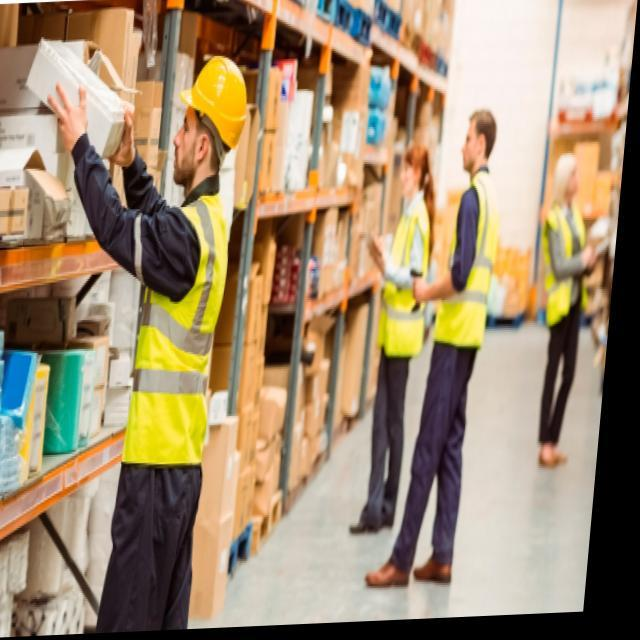helmet: (173, 52, 252, 186)
vest: (117, 189, 235, 472), (430, 170, 502, 350), (373, 196, 438, 361), (533, 203, 598, 330)
